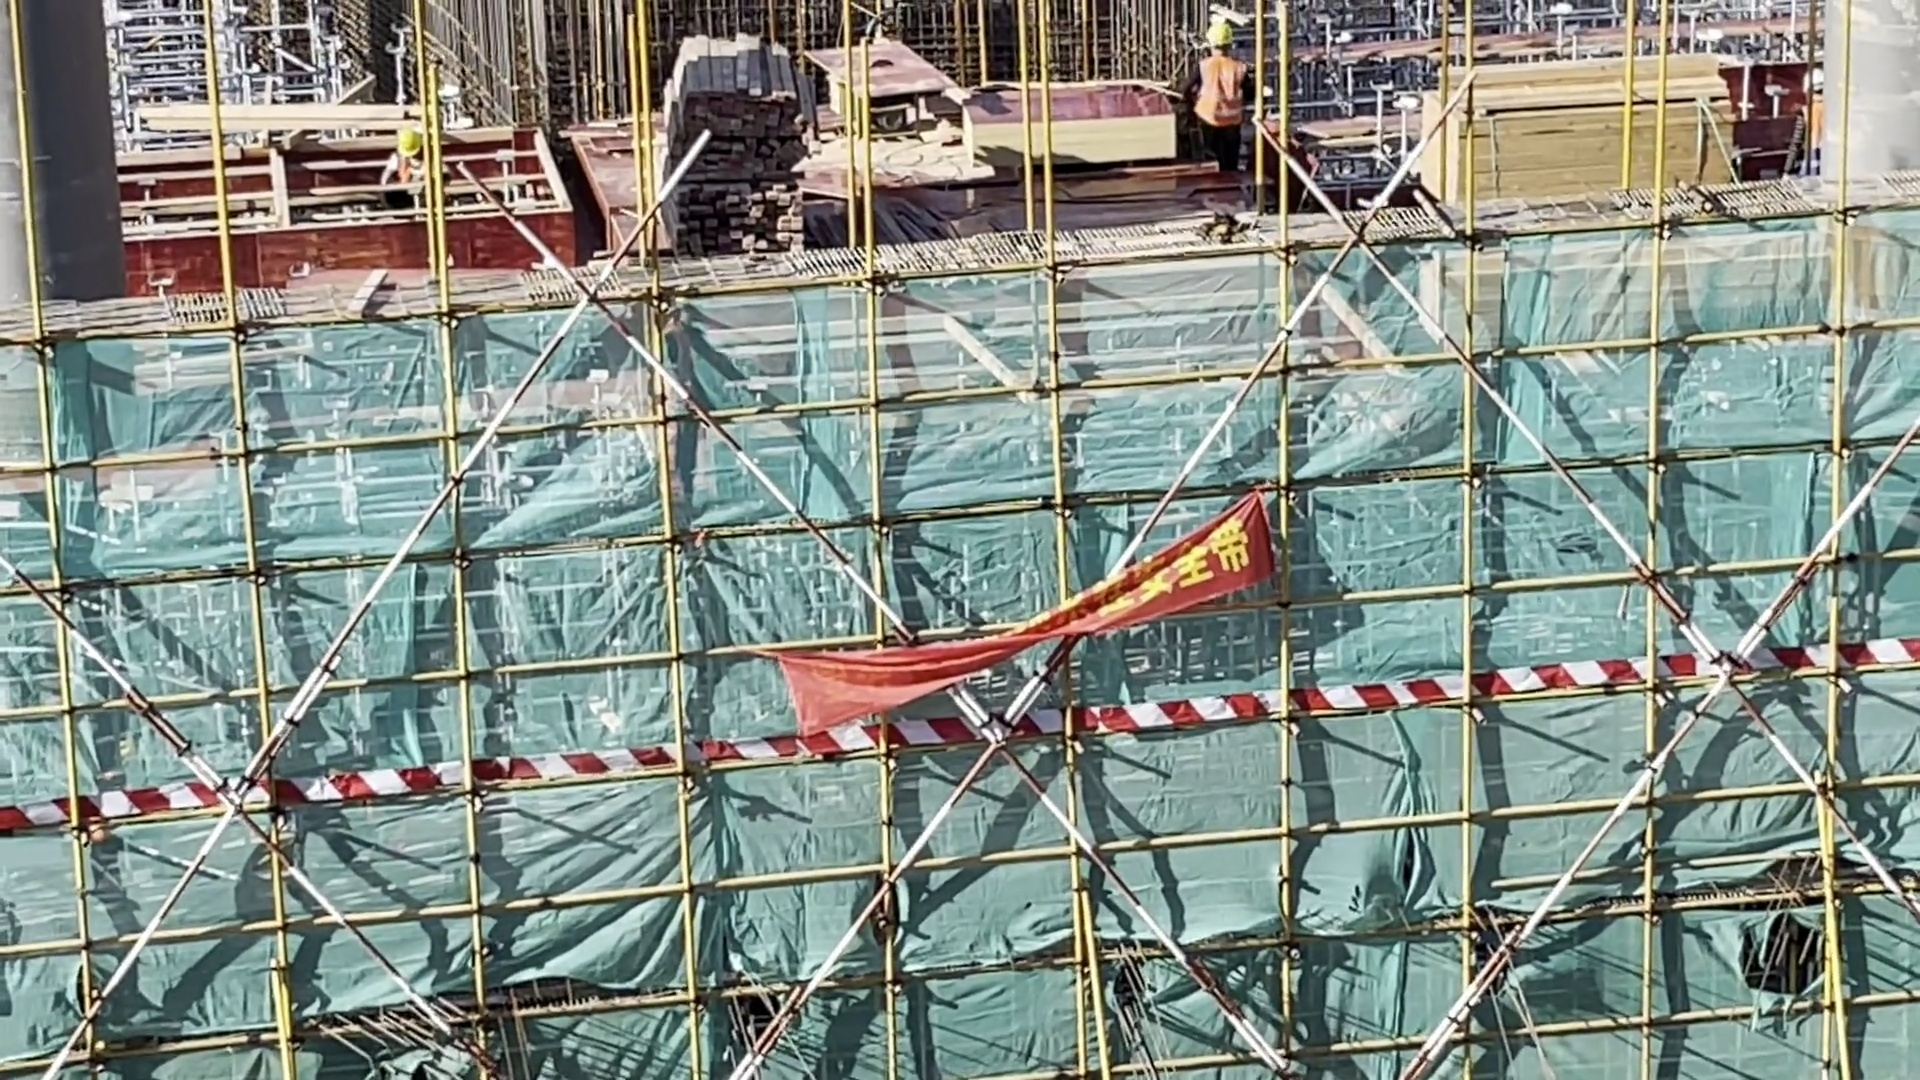helmet: (1201, 17, 1243, 56), (1798, 67, 1835, 101), (397, 123, 430, 160)
person: (1184, 15, 1260, 232), (1780, 61, 1841, 186), (386, 120, 434, 179)
vest: (1196, 48, 1248, 127), (1800, 90, 1829, 167)
